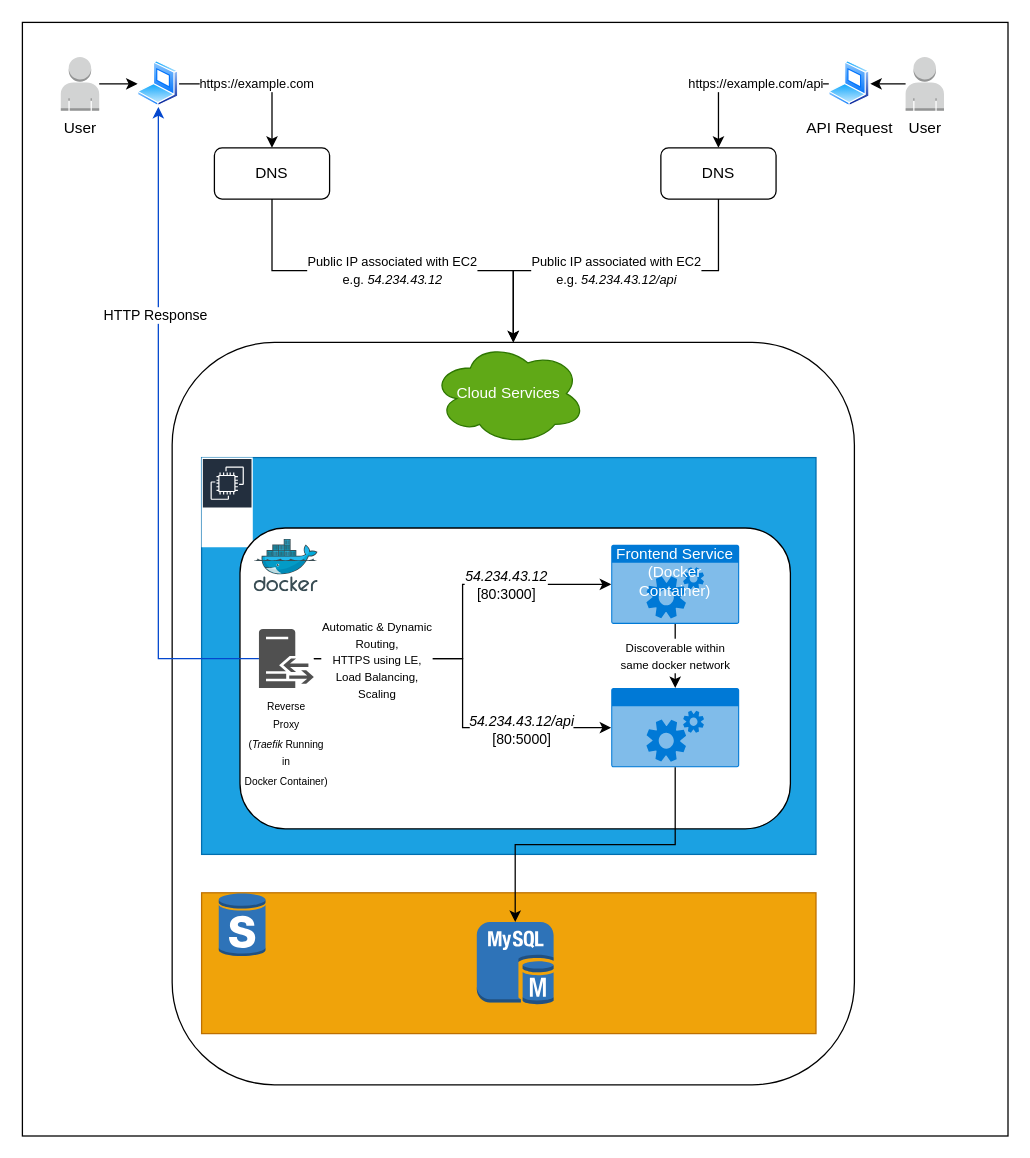
The diagram is 1030 pixels wide and 1158 high, and some of its shapes have lost their labels. The shapes that lost their labels are listed below. From the top down, each one's box as (x1, y1, x2, y2) in pixels, then its label:
(137, 60, 178, 106): Browser
(200, 456, 253, 547): Amazon EC2
(611, 687, 739, 767): Backend Service (Docker Container)
(217, 892, 266, 957): AWS RDS
